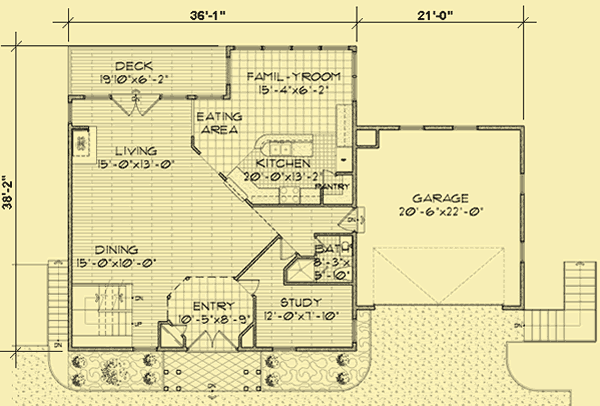door: (191, 329, 238, 357), (112, 92, 162, 117), (235, 277, 265, 295)
kitchen_bar: (251, 132, 316, 160)
stairs: (519, 260, 596, 345), (71, 283, 137, 349), (43, 259, 72, 352)
